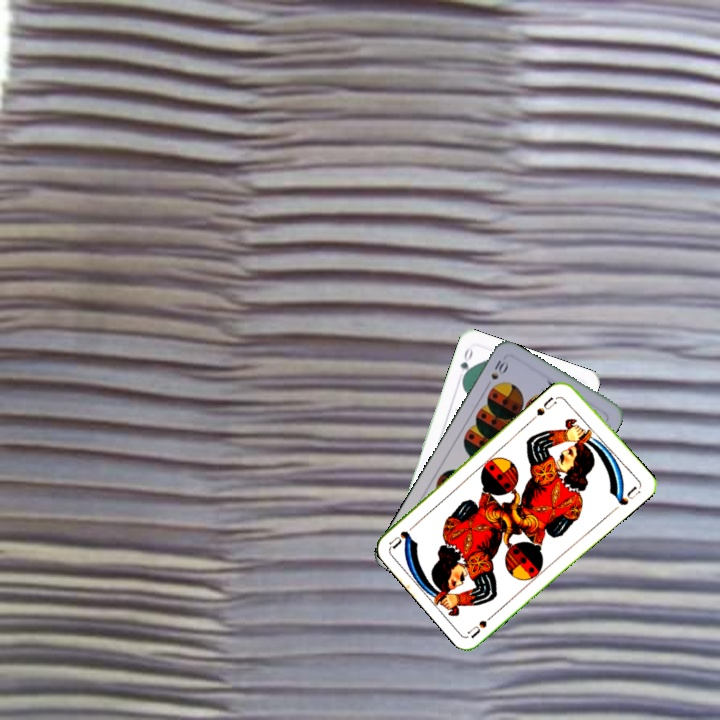GO: (456, 344, 475, 384)
S10: (487, 354, 511, 383)
SU: (464, 607, 500, 640), (532, 392, 563, 418)
